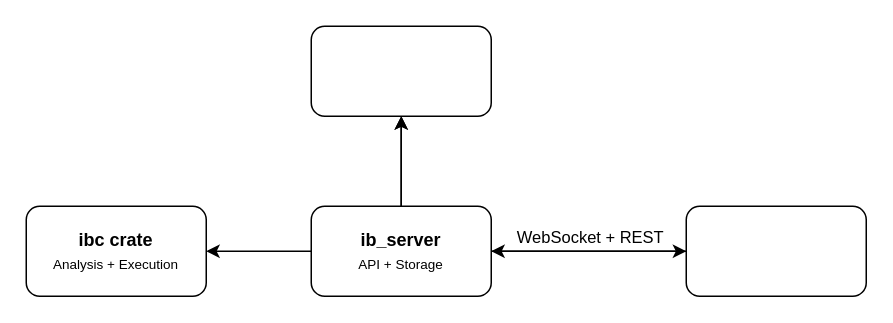
Image size: 893x323. Some labels were removed from this diagram. Here are the shapes that lost their labels. From the top down, the box of each, then its label:
(310, 25, 491, 116): auth-server JWT Validation
(685, 205, 866, 296): Web IDE
